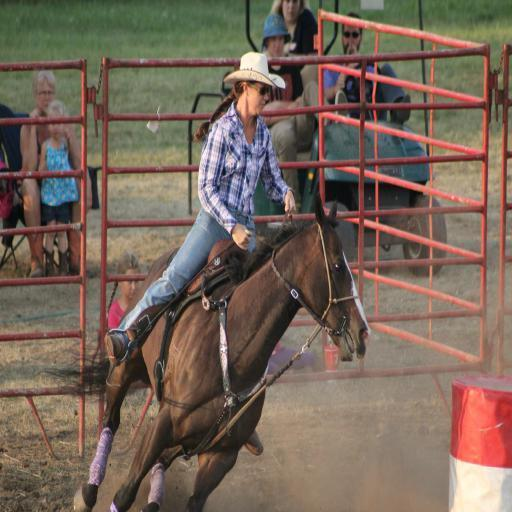horse: (30, 195, 372, 512)
